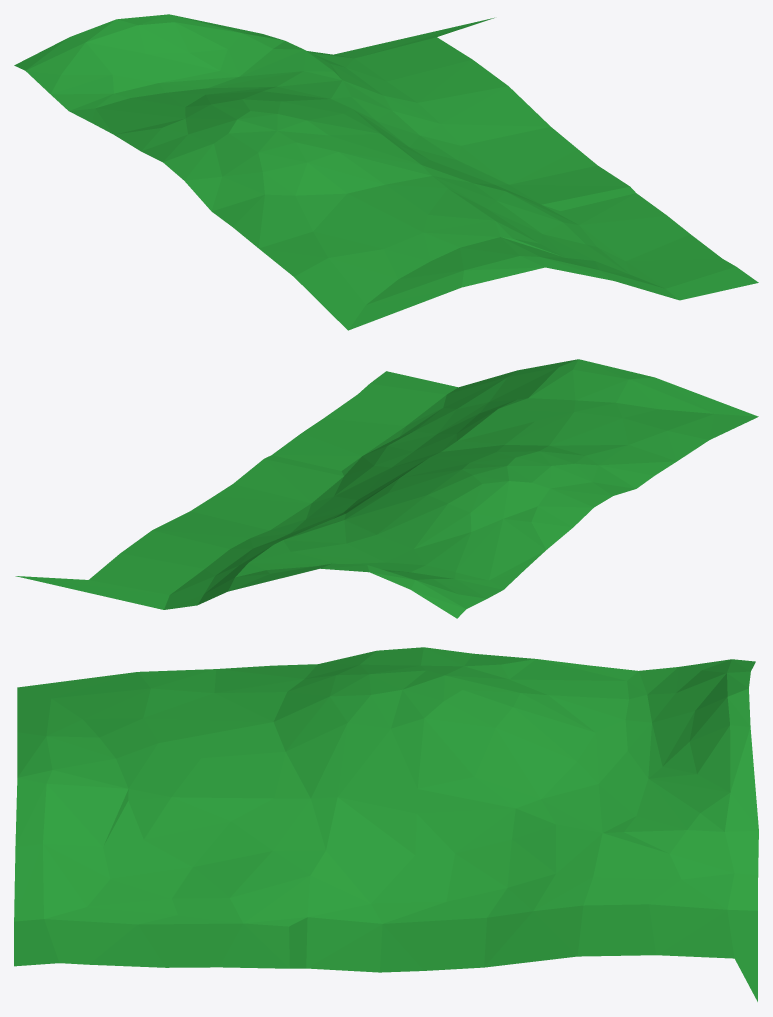
Rendered from Field_R2.fbx.
3 views of the same model, one above another, from view 1: azimuth 30°, elevation 25°; view 2: azimuth 150°, elevation 25°; view 3: azimuth 270°, elevation 25° (orthographic). The views are drawn at different scales.
Visible parts, largest first — view 1: R2; view 2: R2; view 3: R2.
Boxes of the visible parts, left/top/right/bottom form: R2: left=14, top=14, right=758, bottom=330; R2: left=15, top=359, right=758, bottom=618; R2: left=14, top=647, right=758, bottom=1001.
Bounding box in the file's own units: 2853 × 593 × 3415.
